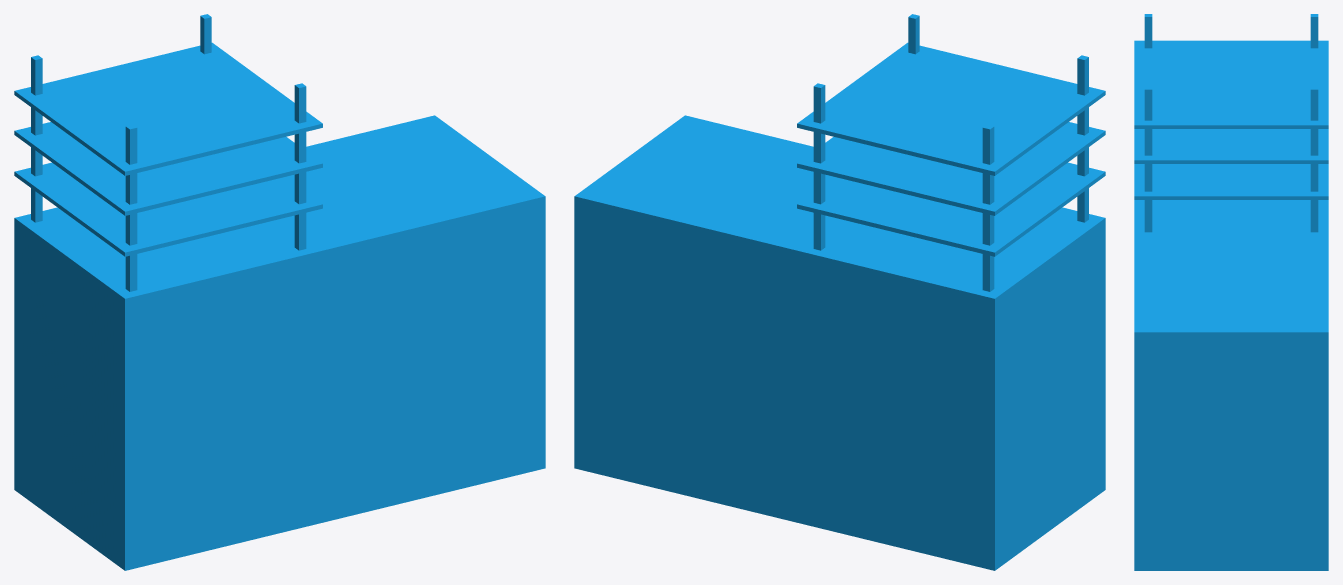
The model's file is Building_Constr.FBX.
3 views of the same model, side by side, from view 1: azimuth 30°, elevation 25°; view 2: azimuth 150°, elevation 25°; view 3: azimuth 270°, elevation 25° (orthographic). The views are drawn at different scales.
Visible parts, largest first — view 1: Box1308; view 2: Box1308; view 3: Box1308.
Part boxes in pixels (x1,y1,x2,y2): Box1308: [14, 14, 545, 570]; Box1308: [574, 14, 1105, 570]; Box1308: [1134, 14, 1328, 570].
Size of the model in its own units: 312 by 308 by 142.
